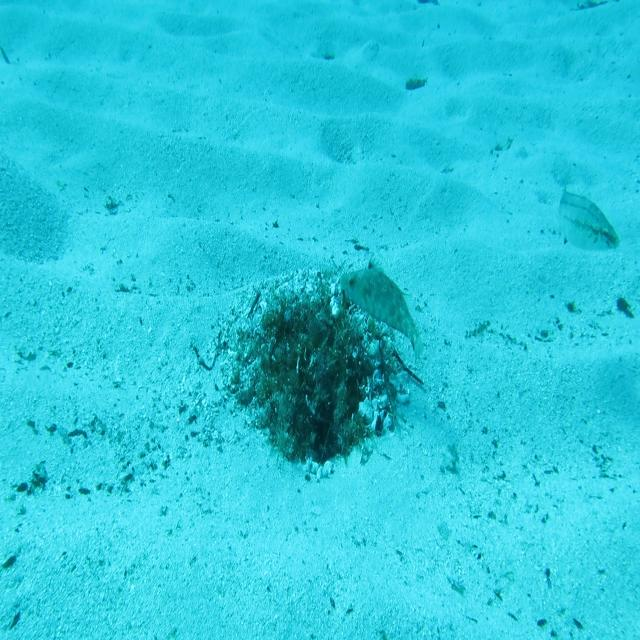BN: (337, 249, 428, 366)
core_nest: (287, 312, 326, 349)
female: (551, 183, 622, 257)
nest: (208, 251, 420, 491)
vegetation: (403, 75, 429, 95)
